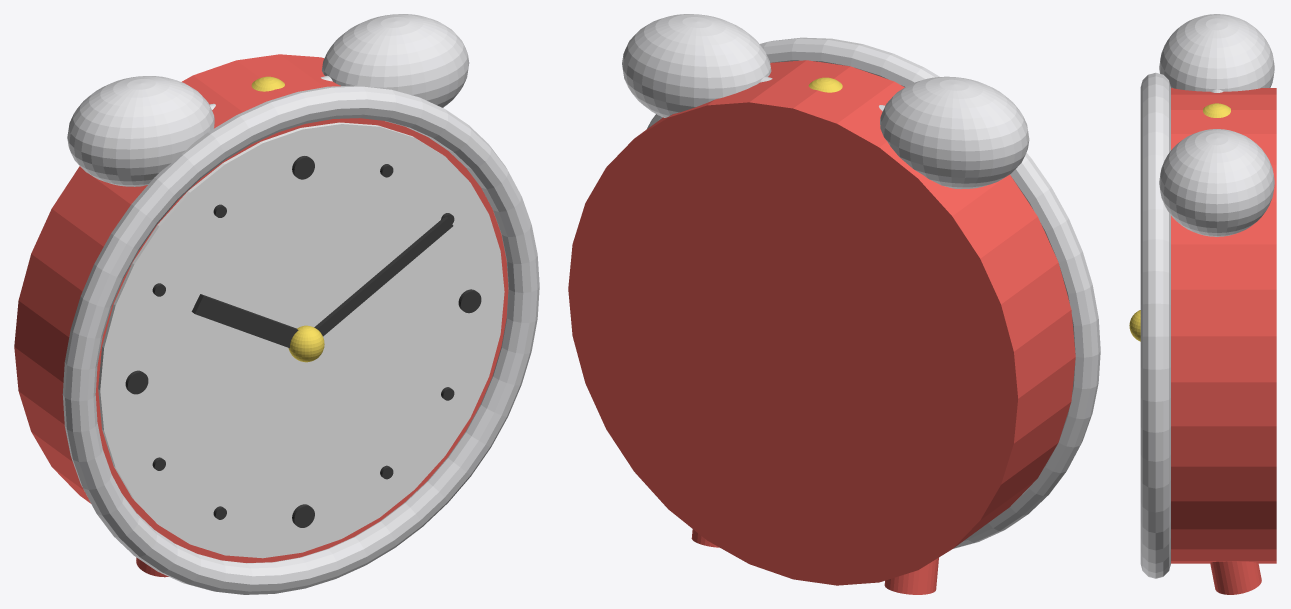
Rendered from Alarm Clock.fbx.
3 views of the same model, side by side, from view 1: azimuth 30°, elevation 25°; view 2: azimuth 150°, elevation 25°; view 3: azimuth 270°, elevation 25° (orthographic). The views are drawn at different scales.
Visible parts, largest first — view 1: Cylinder.001, Torus.164, Cylinder, Sphere.001, Sphere.002, Hand.001, Hand, Sphere; view 2: Cylinder, Torus.164, Sphere.001, Sphere.002, Cylinder.015; view 3: Cylinder, Torus.164, Sphere.002, Sphere.001, Cylinder.016, Sphere.003, Sphere.
Part boxes in pixels (x1,y1,x2,y2): Cylinder.001: (98,122,504,558); Torus.164: (62,85,539,594); Cylinder: (14,54,508,562); Sphere.001: (67,76,214,186); Sphere.002: (322,14,469,107); Hand.001: (314,216,453,336); Hand: (191,294,298,348); Sphere: (288,325,324,362); Cylinder: (568,60,1075,585); Torus.164: (646,37,1100,548); Sphere.001: (880,76,1029,189); Sphere.002: (622,14,771,117); Cylinder.015: (884,557,938,594); Cylinder: (1171,88,1276,563); Torus.164: (1140,72,1170,578); Sphere.002: (1159,129,1274,236); Sphere.001: (1159,14,1274,91); Cylinder.016: (1210,561,1261,594); Sphere.003: (1203,103,1230,117); Sphere: (1129,310,1140,341).
Size of the model in its own units: 59.6 by 61.58 by 17.3.
